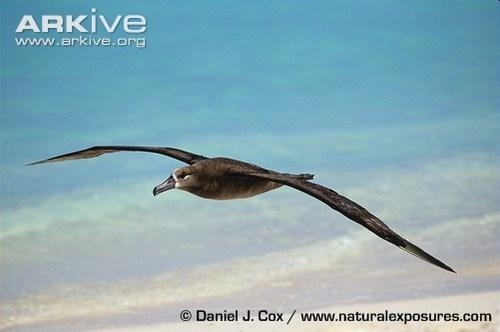bird: (18, 140, 458, 274)
